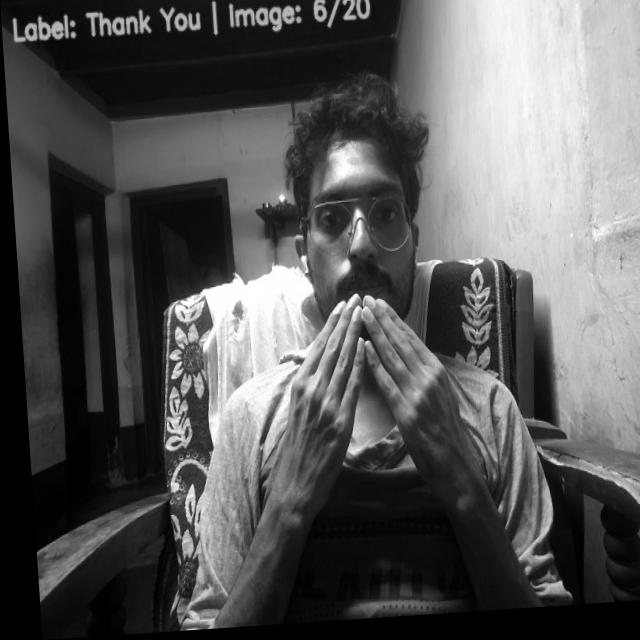Thank You: (259, 292, 470, 518)
